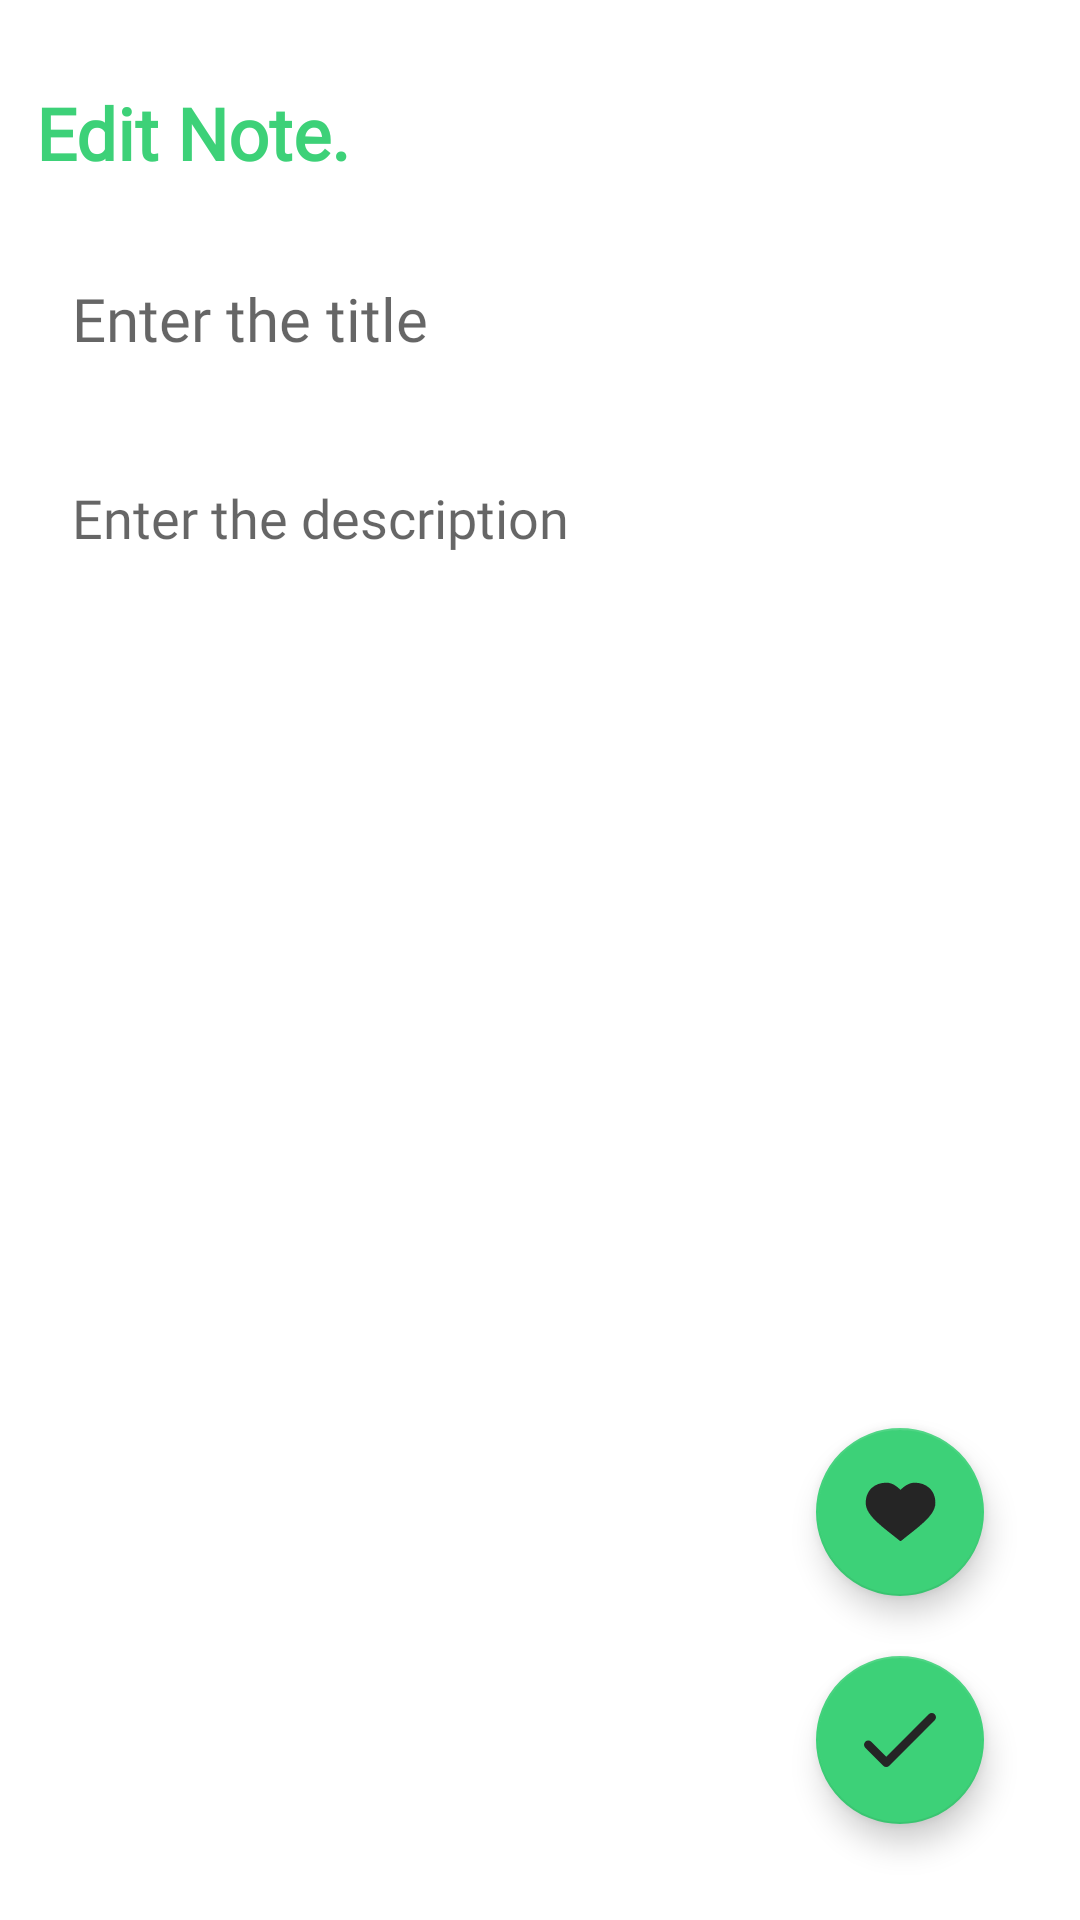

Where icons sit on this 1080w x 1920h app screen, as (x1, y1, x2, y2):
done: (816, 1656, 984, 1824)
love notfill: (816, 1428, 984, 1596)
